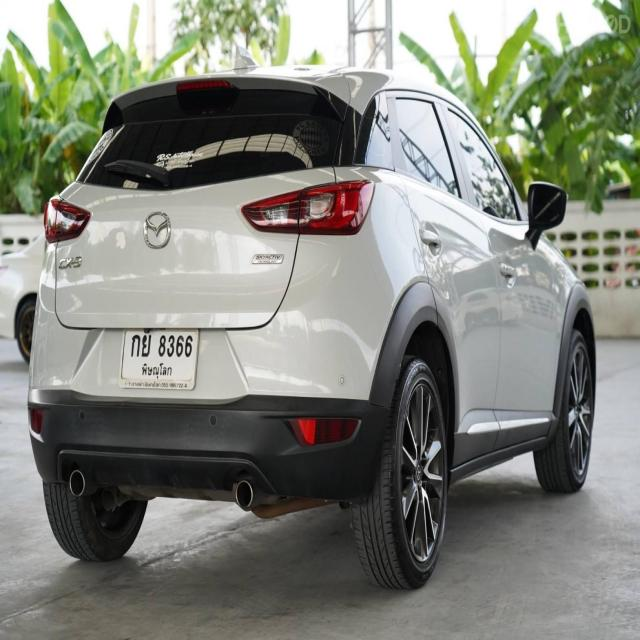license_plate: (120, 326, 199, 391)
